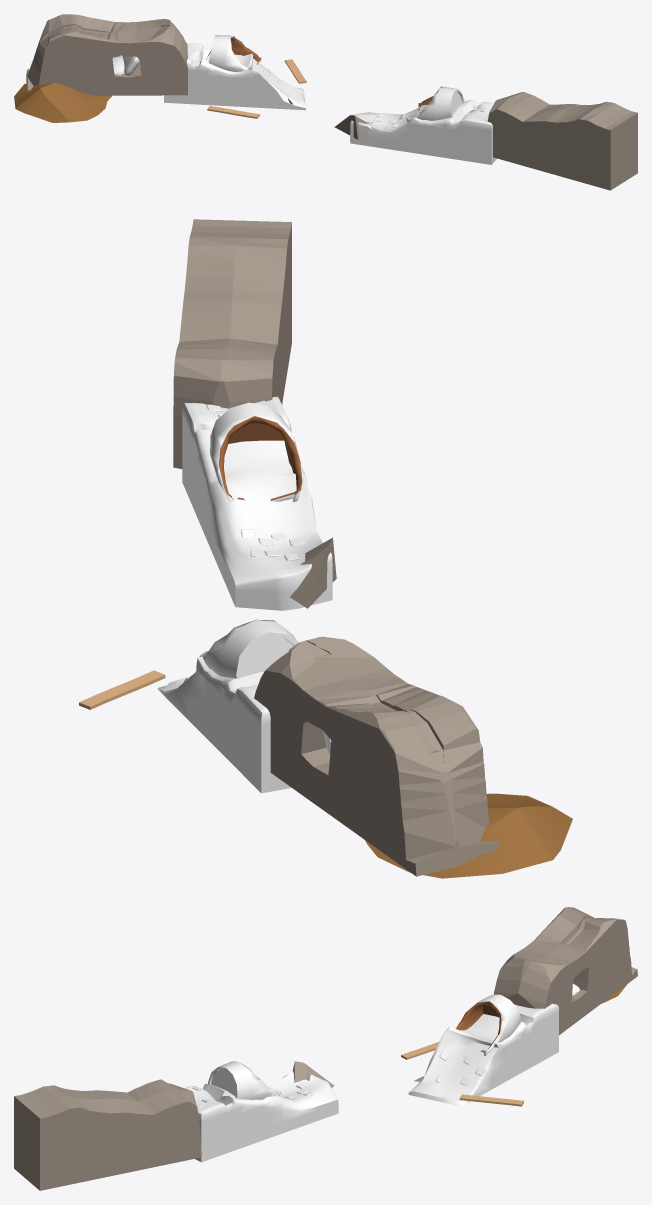
File: damage_02.gltf
The picture shows the model from 3 angles, top to bottom: view 1: azimuth 30°, elevation 25°; view 2: azimuth 150°, elevation 25°; view 3: azimuth 270°, elevation 25°; orthographic projection. The views are drawn at different scales.
Visible parts, largest first — view 1: CSGBakedMeshInstance3D2, CSGBakedMeshInstance3D5, c2c_damaged_l_asset, c2c_damaged_r_asset, sm_dirt_cluster_022, CSGBakedMeshInstance3D4, CSGBakedMeshInstance3D3, CSGBakedMeshInstance3D, sm_plank; view 2: CSGBakedMeshInstance3D5, CSGBakedMeshInstance3D2, c2c_damaged_l_asset, c2c_damaged_r_asset, sm_dirt_cluster_022, CSGBakedMeshInstance3D3, CSGBakedMeshInstance3D4, CSGBakedMeshInstance3D, sm_plank2; view 3: CSGBakedMeshInstance3D2, CSGBakedMeshInstance3D5, c2c_damaged_r_asset, c2c_damaged_l_asset, CSGBakedMeshInstance3D3, CSGBakedMeshInstance3D4, CSGBakedMeshInstance3D, sm_plank2.
Part boxes in pixels (bbox=[...]): CSGBakedMeshInstance3D2: bbox=[487, 92, 637, 190]; CSGBakedMeshInstance3D5: bbox=[26, 14, 187, 95]; c2c_damaged_l_asset: bbox=[350, 99, 496, 164]; c2c_damaged_r_asset: bbox=[164, 43, 305, 110]; sm_dirt_cluster_022: bbox=[14, 82, 111, 122]; CSGBakedMeshInstance3D4: bbox=[208, 35, 261, 71]; CSGBakedMeshInstance3D3: bbox=[406, 86, 464, 122]; CSGBakedMeshInstance3D: bbox=[288, 98, 368, 139]; sm_plank: bbox=[207, 106, 259, 118]; CSGBakedMeshInstance3D5: bbox=[254, 636, 500, 876]; CSGBakedMeshInstance3D2: bbox=[173, 219, 291, 468]; c2c_damaged_l_asset: bbox=[182, 396, 332, 610]; c2c_damaged_r_asset: bbox=[157, 657, 291, 793]; sm_dirt_cluster_022: bbox=[365, 793, 572, 878]; CSGBakedMeshInstance3D3: bbox=[210, 402, 302, 502]; CSGBakedMeshInstance3D4: bbox=[199, 619, 298, 678]; CSGBakedMeshInstance3D: bbox=[290, 537, 336, 608]; sm_plank2: bbox=[79, 670, 165, 709]; CSGBakedMeshInstance3D2: bbox=[14, 1079, 201, 1190]; CSGBakedMeshInstance3D5: bbox=[493, 907, 637, 1035]; c2c_damaged_r_asset: bbox=[408, 1003, 558, 1106]; c2c_damaged_l_asset: bbox=[184, 1071, 338, 1162]; CSGBakedMeshInstance3D3: bbox=[208, 1061, 280, 1099]; CSGBakedMeshInstance3D4: bbox=[456, 994, 521, 1055]; CSGBakedMeshInstance3D: bbox=[292, 1061, 423, 1087]; sm_plank2: bbox=[459, 1094, 523, 1106].
Size of the model in its own units: 13.14 by 2.25 by 14.81.
